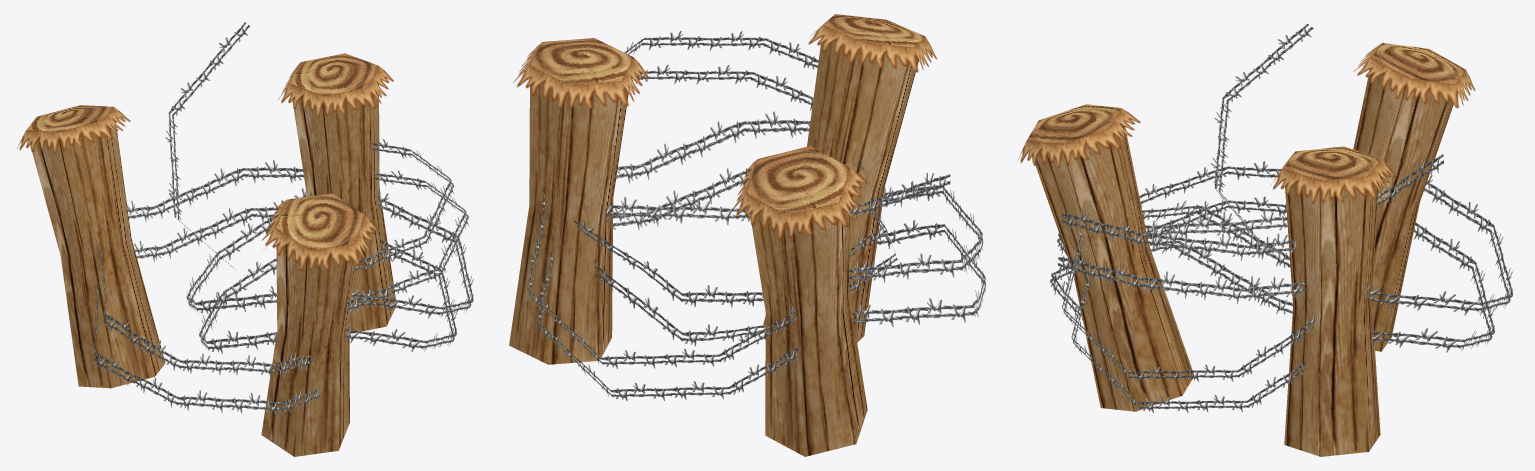
The picture shows the model from 3 angles, left to right: view 1: azimuth 30°, elevation 25°; view 2: azimuth 150°, elevation 25°; view 3: azimuth 270°, elevation 25°; orthographic projection. The views are drawn at different scales.
Parts seen in each view (by area): view 1: Box04, barbed_wire, tops, fringe; view 2: Box04, barbed_wire, tops, fringe; view 3: Box04, barbed_wire, fringe, tops.
Part boxes in pixels (<box>): Box04: <box>30,83,396,456</box>; barbed_wire: <box>92,22,473,415</box>; tops: <box>26,53,378,249</box>; fringe: <box>17,63,393,271</box>; Box04: <box>509,36,918,456</box>; barbed_wire: <box>527,31,985,401</box>; tops: <box>530,14,924,214</box>; fringe: <box>513,16,936,240</box>; Box04: <box>1035,69,1457,456</box>; barbed_wire: <box>1050,23,1512,412</box>; fringe: <box>1018,43,1474,203</box>; tops: <box>1027,43,1465,180</box>.
Size of the model in its own units: 175 by 143 by 186.
Materials: 4 (4 with a texture image).
